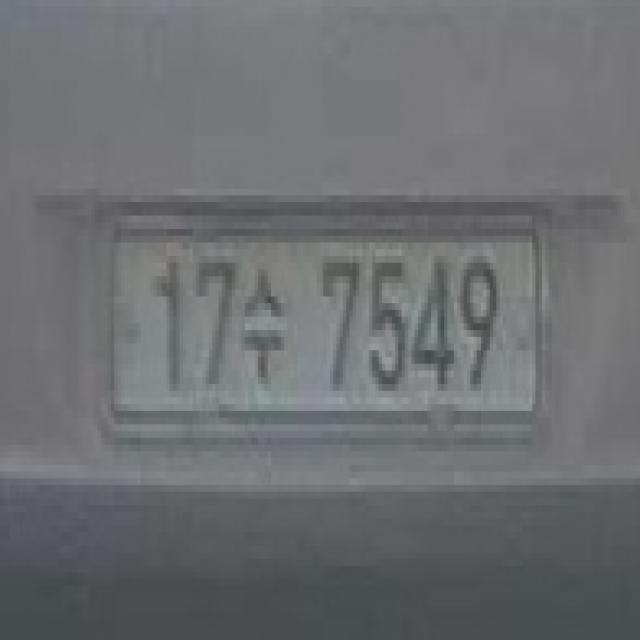1: (147, 235, 189, 418)
4: (412, 242, 461, 411)
5: (366, 250, 411, 398)
7: (190, 236, 238, 411), (317, 249, 362, 404)
9: (460, 243, 500, 404)
license_plate: (85, 202, 558, 458)
su: (238, 243, 290, 404)
